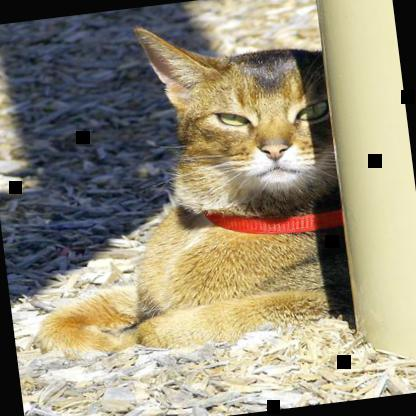cat: (3, 5, 354, 364)
